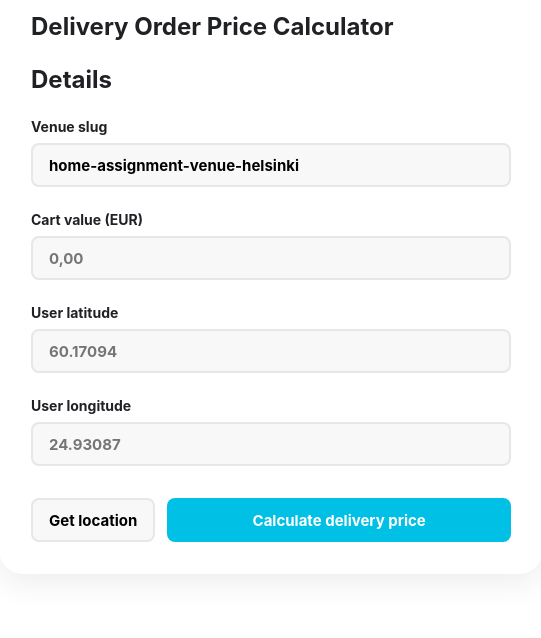
Test: DeliveryCalculator › handles empty coordinate validation
The width and height of the screenshot is (541, 638).
// Test empty latitude
Type "10.00" into the field with test id "cartValue" at (271, 258), box [31,236,511,280]
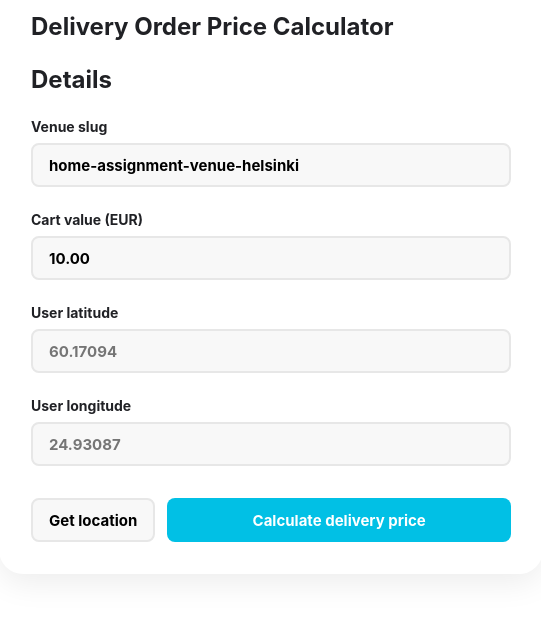
Type "24.9384" into the number field with test id "userLongitude" at (271, 444), box [31,422,511,466]
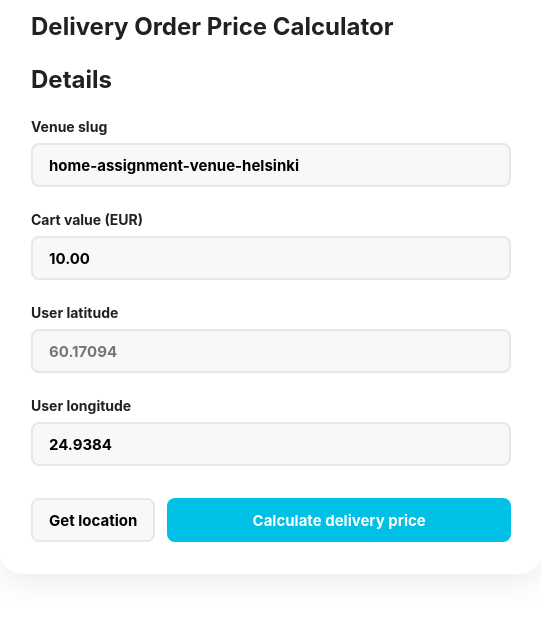
Click the button with test id "calculateDeliveryPrice" at (339, 520), box [167,498,511,542]
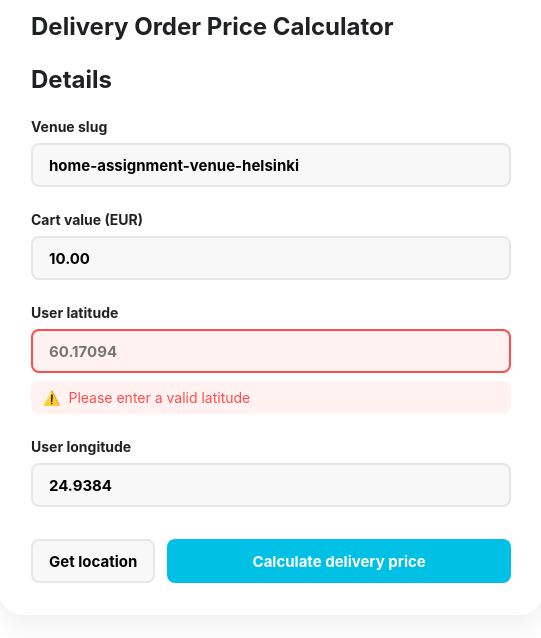
Expected: the text "Please enter a valid latitude" is shown, [68,389,250,406]
// Test empty longitude
Type "60.1699" into the number field with test id "userLatitude" at (271, 351), box [31,329,511,373]
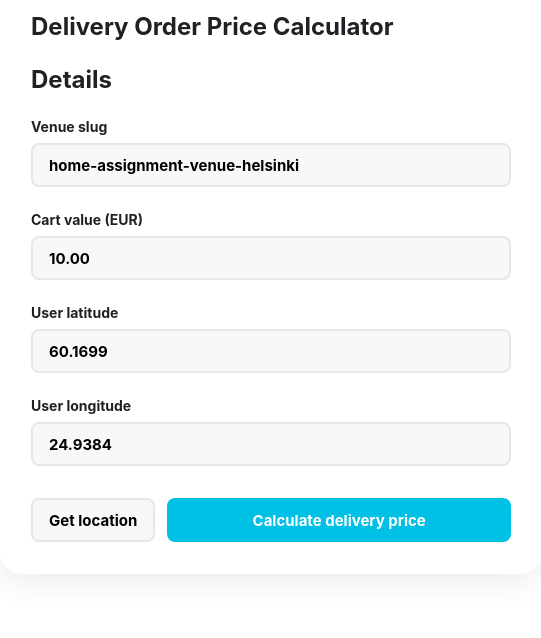
Clear the number field with test id "userLongitude" at (271, 444), box [31,422,511,466]
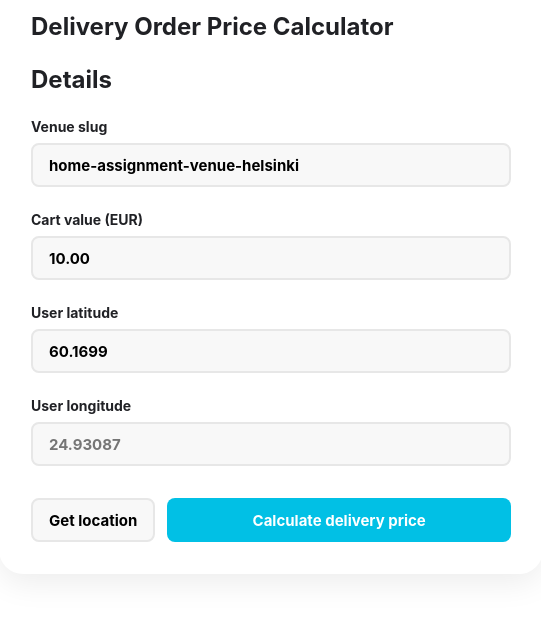
Click the button with test id "calculateDeliveryPrice" at (339, 520), box [167,498,511,542]
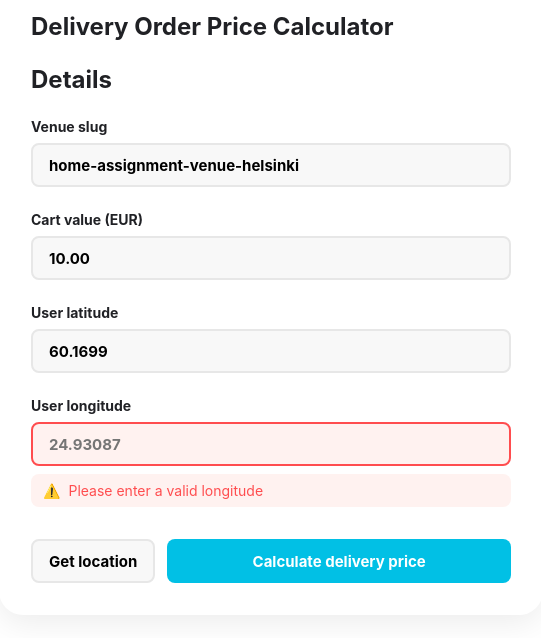
Expected: the text "Please enter a valid longitude" is shown, [68,482,263,499]
